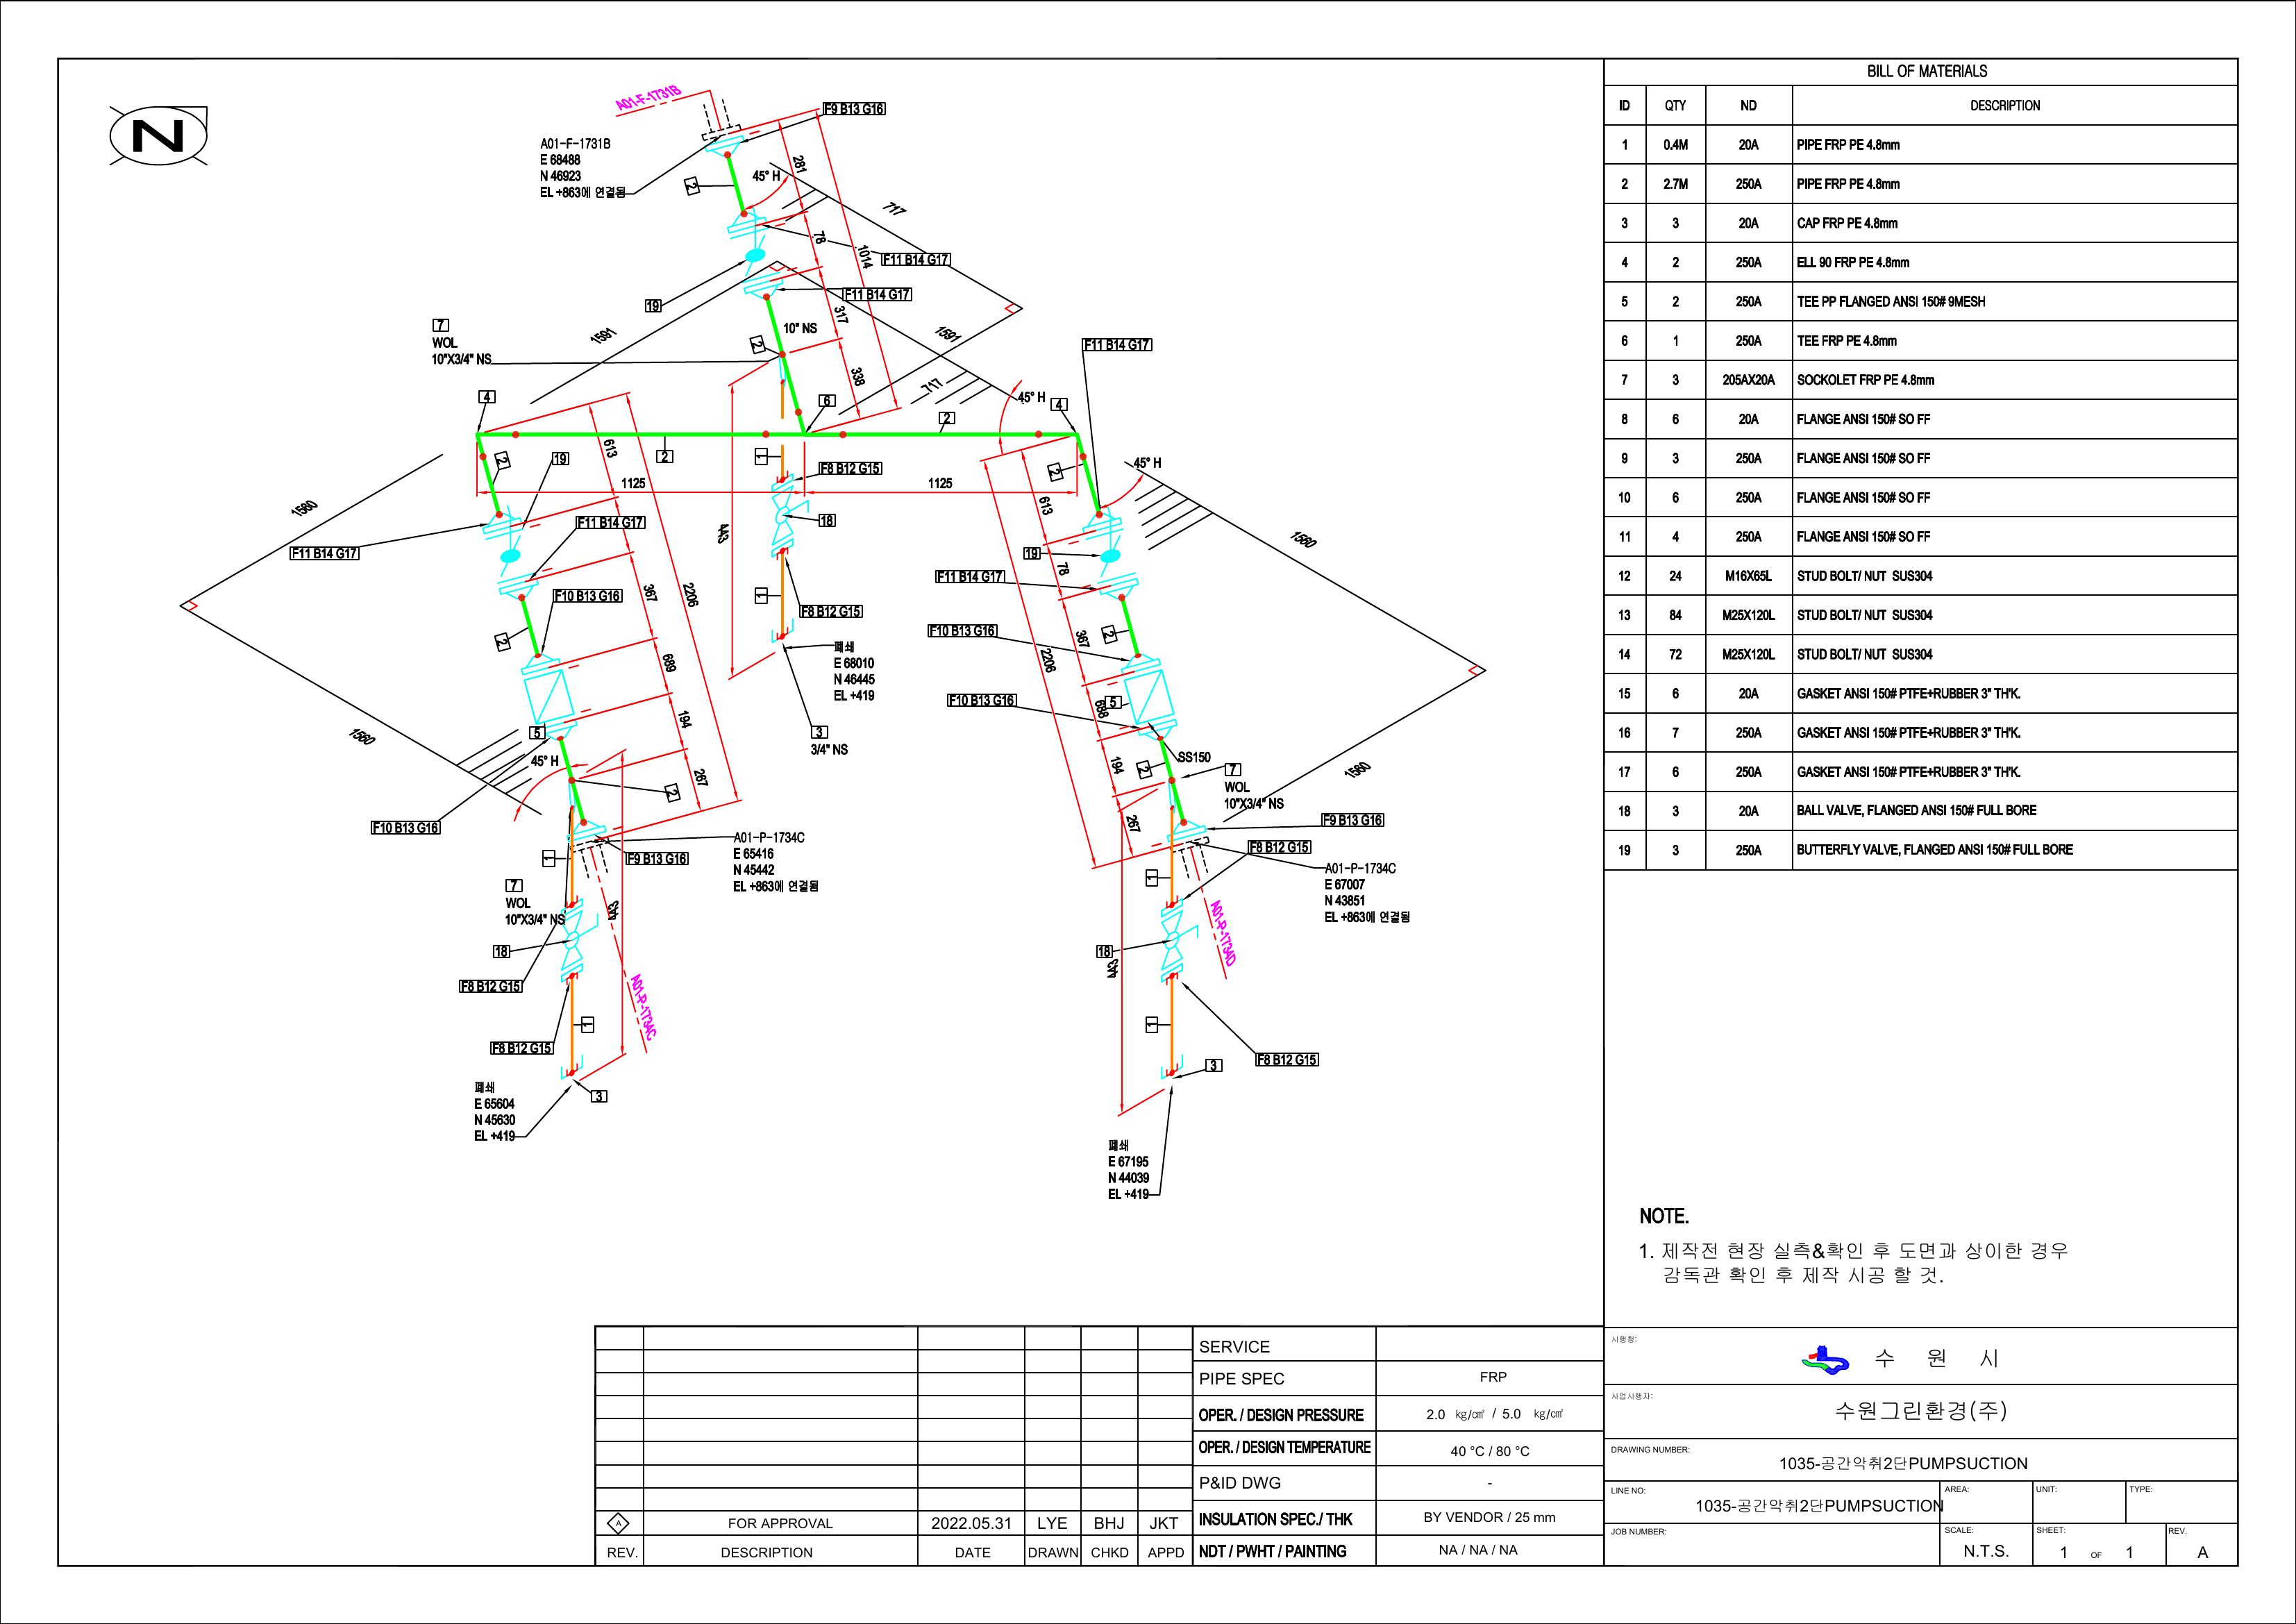table: (1597, 47, 2249, 882)
